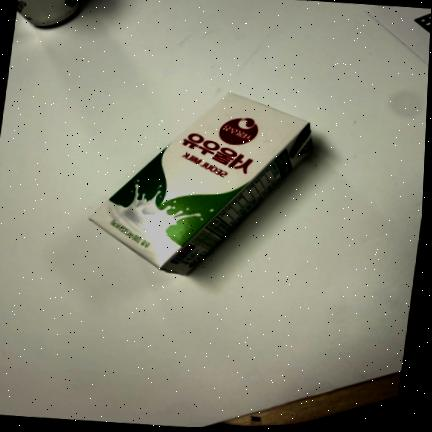milk_green: (87, 91, 315, 276)
